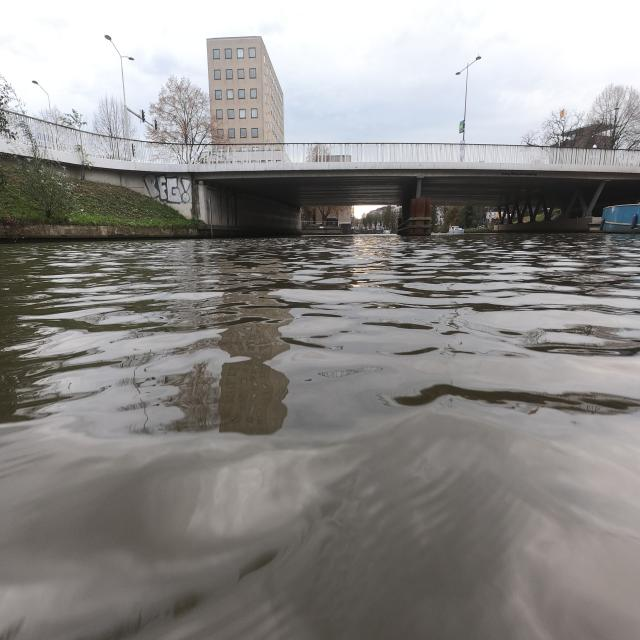boat: (600, 204, 640, 233), (448, 225, 465, 234)
dock: (0, 223, 209, 241), (213, 227, 238, 237), (267, 228, 291, 235)
grass: (0, 153, 197, 232), (0, 156, 192, 222)
sky: (198, 8, 638, 136), (2, 2, 206, 112)
tree: (148, 76, 213, 162), (588, 84, 640, 149)
wall: (193, 181, 303, 237), (494, 216, 601, 233)
water: (0, 234, 640, 640)
